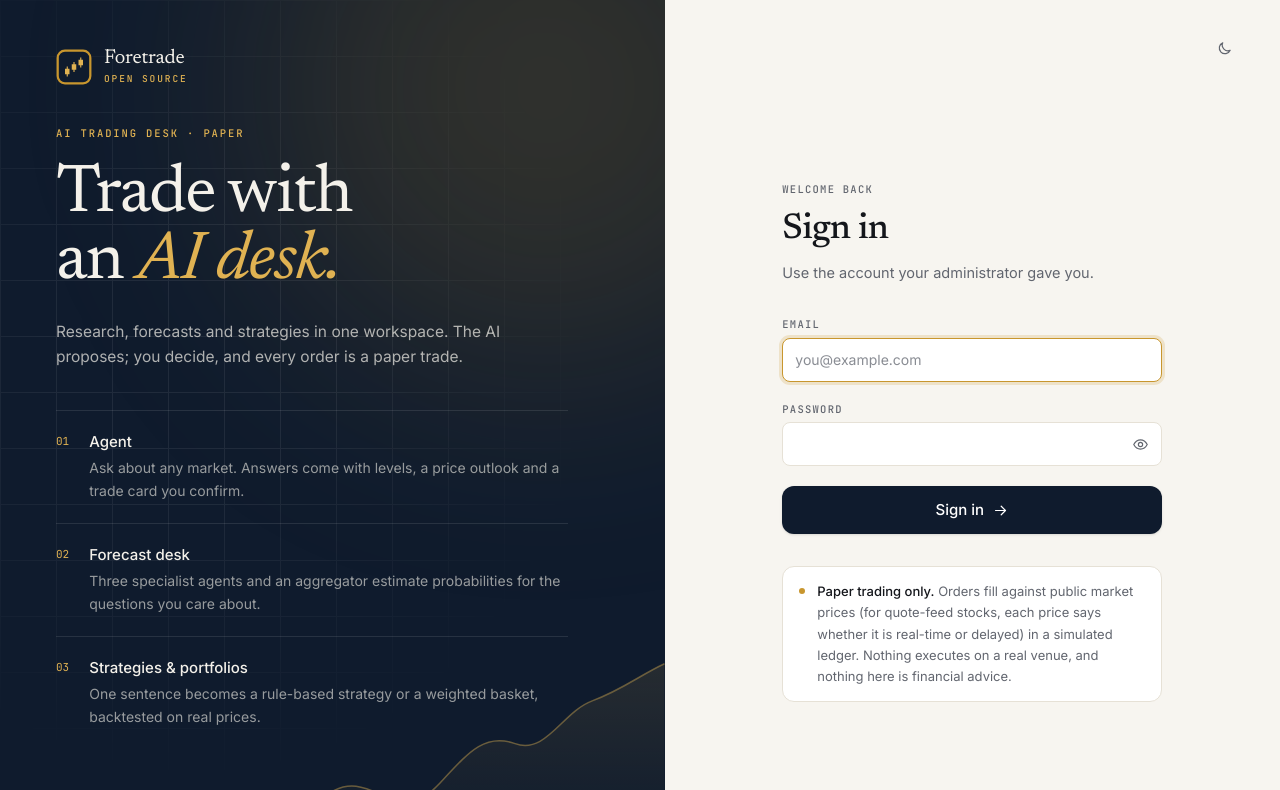
Test: LoginPage › shows an inline error for {"name":"ApiError","status":401,"code":"invalid_credentials"}
This screenshot has width=1280, height=790.
Type "demo@example.com" into the field labelled "Email".
click(972, 360); type("demo@example.com")  # box [782, 338, 1162, 382]
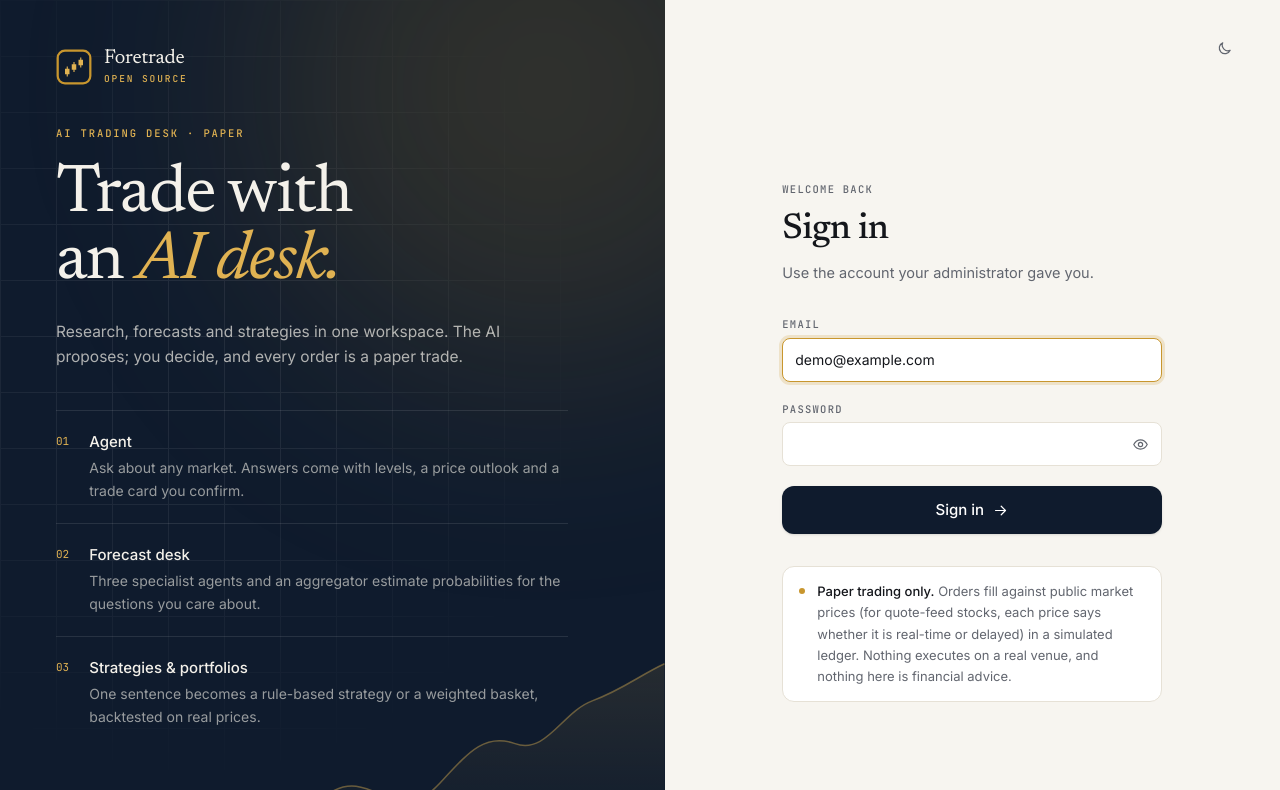
Type "localdemo" into the password field labelled "Password".
click(972, 444); type("localdemo")  # box [782, 422, 1162, 466]
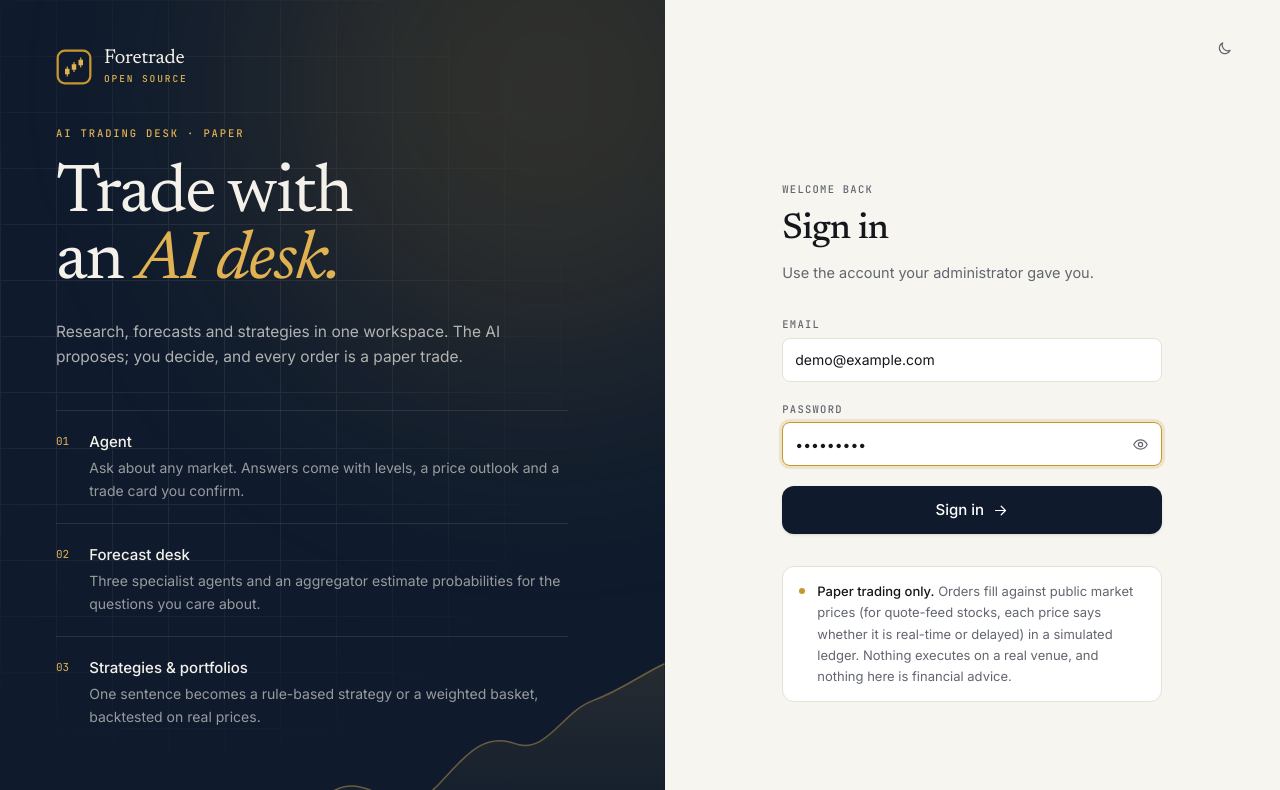
Click the button "Sign in".
click(972, 510)  # box [782, 486, 1162, 534]
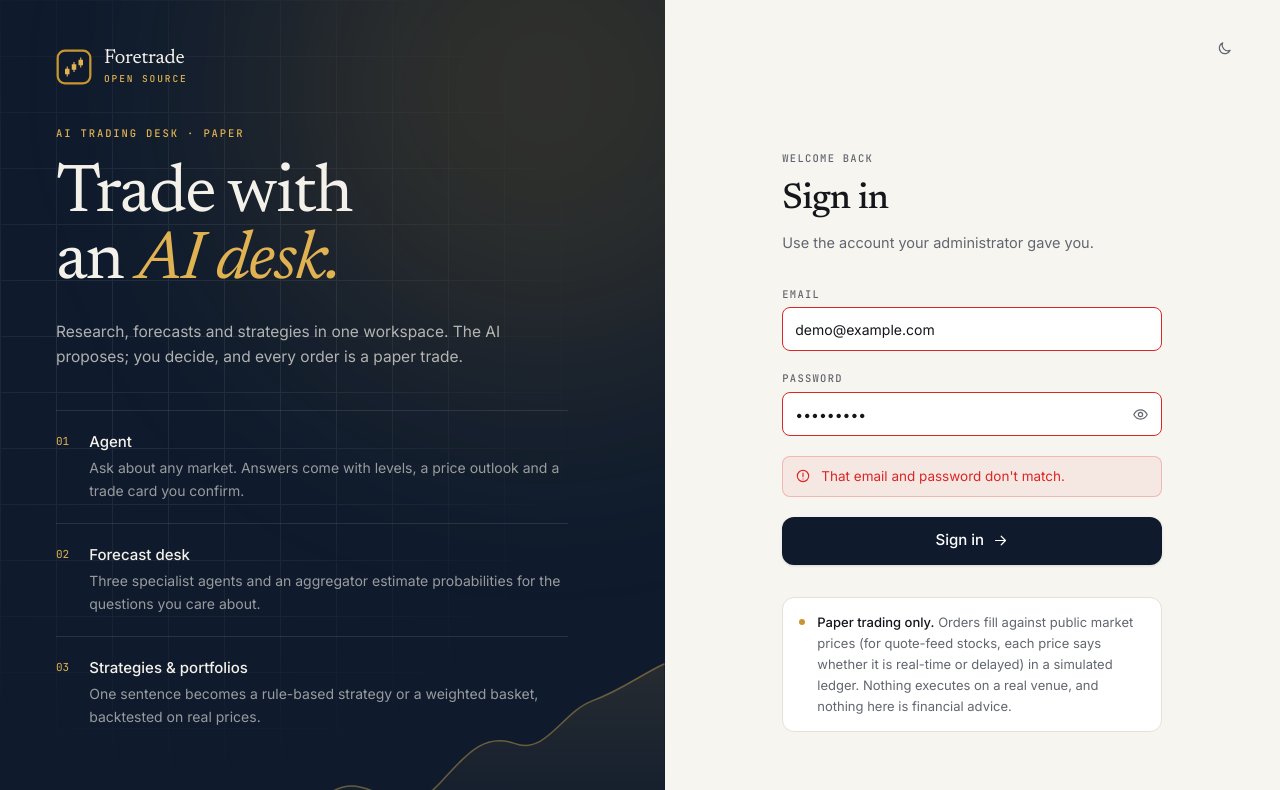
Expected: the button "Sign in" is enabled, [782, 517, 1162, 565]
Now the message reads "That email and password don't match.", box [821, 468, 1065, 484]
